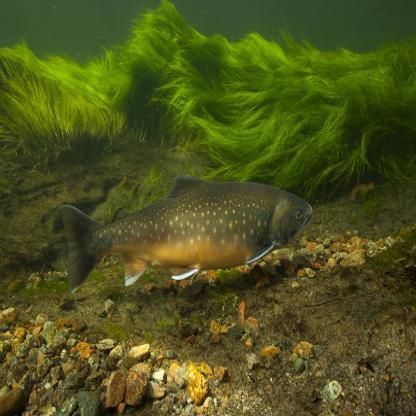fish: (59, 174, 312, 292)
